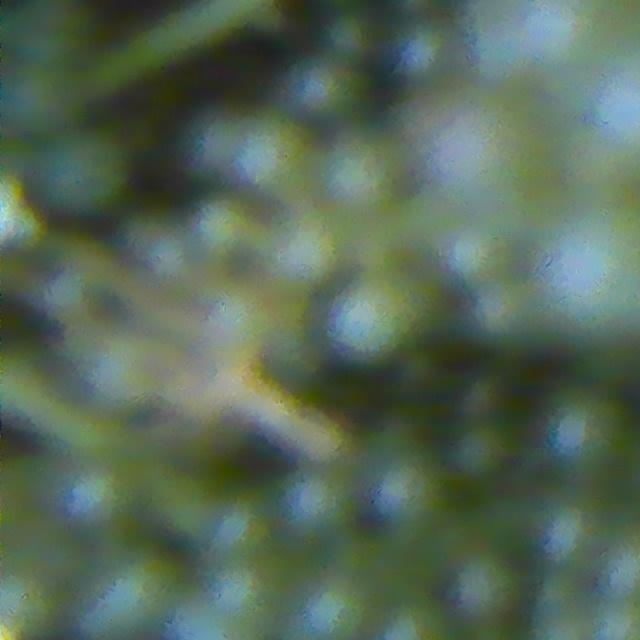SeaGrape: (423, 111, 549, 213), (537, 217, 640, 338), (322, 269, 436, 359), (507, 0, 618, 90), (75, 555, 172, 640), (541, 387, 628, 477), (41, 129, 130, 216), (263, 207, 348, 295), (227, 111, 312, 198), (270, 218, 366, 293), (319, 132, 401, 217), (197, 275, 278, 357), (66, 467, 148, 539), (126, 215, 196, 288), (285, 55, 359, 123), (369, 465, 444, 527), (190, 196, 259, 263), (467, 278, 535, 345), (232, 127, 309, 186), (207, 497, 272, 563), (441, 219, 506, 283), (391, 19, 453, 84), (448, 419, 511, 482), (280, 472, 347, 529), (450, 552, 507, 619), (545, 505, 608, 565), (297, 584, 359, 640), (321, 10, 378, 66), (220, 569, 290, 612), (195, 211, 263, 252)
